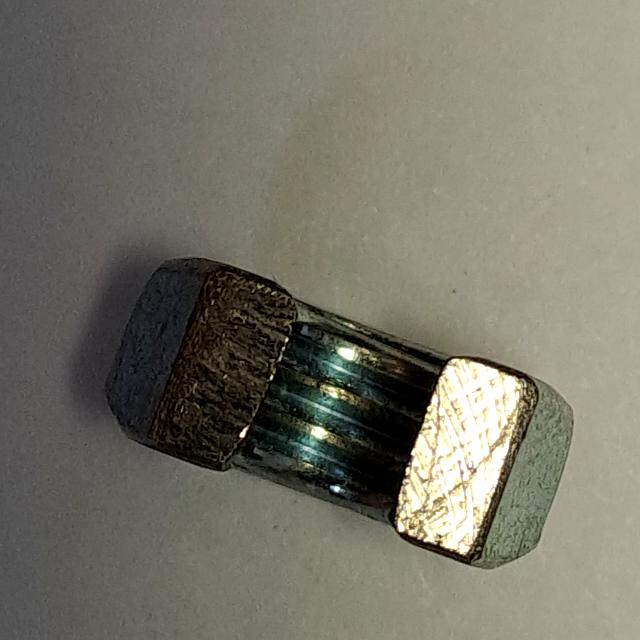Side-Fracture: (85, 239, 584, 582)
